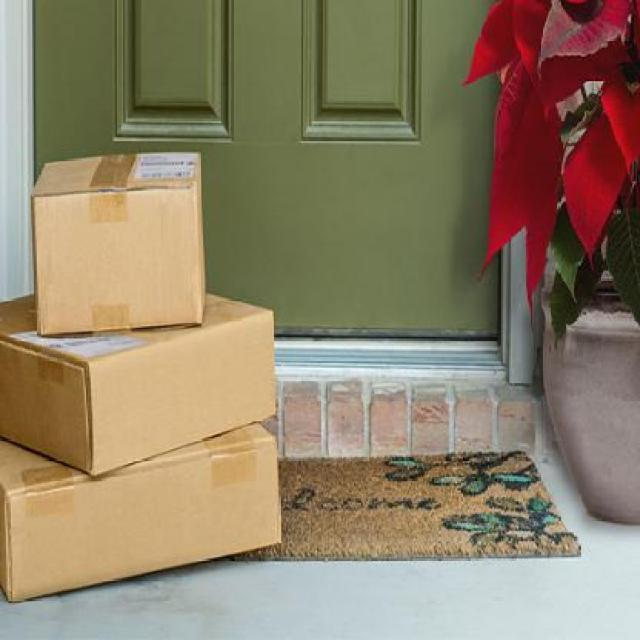box: (0, 285, 277, 478), (0, 413, 277, 599), (32, 150, 208, 336)
